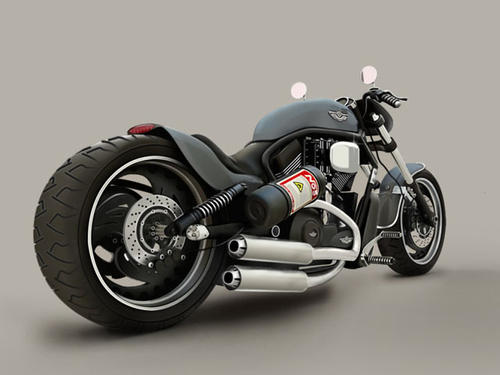motor: (55, 77, 456, 324)
